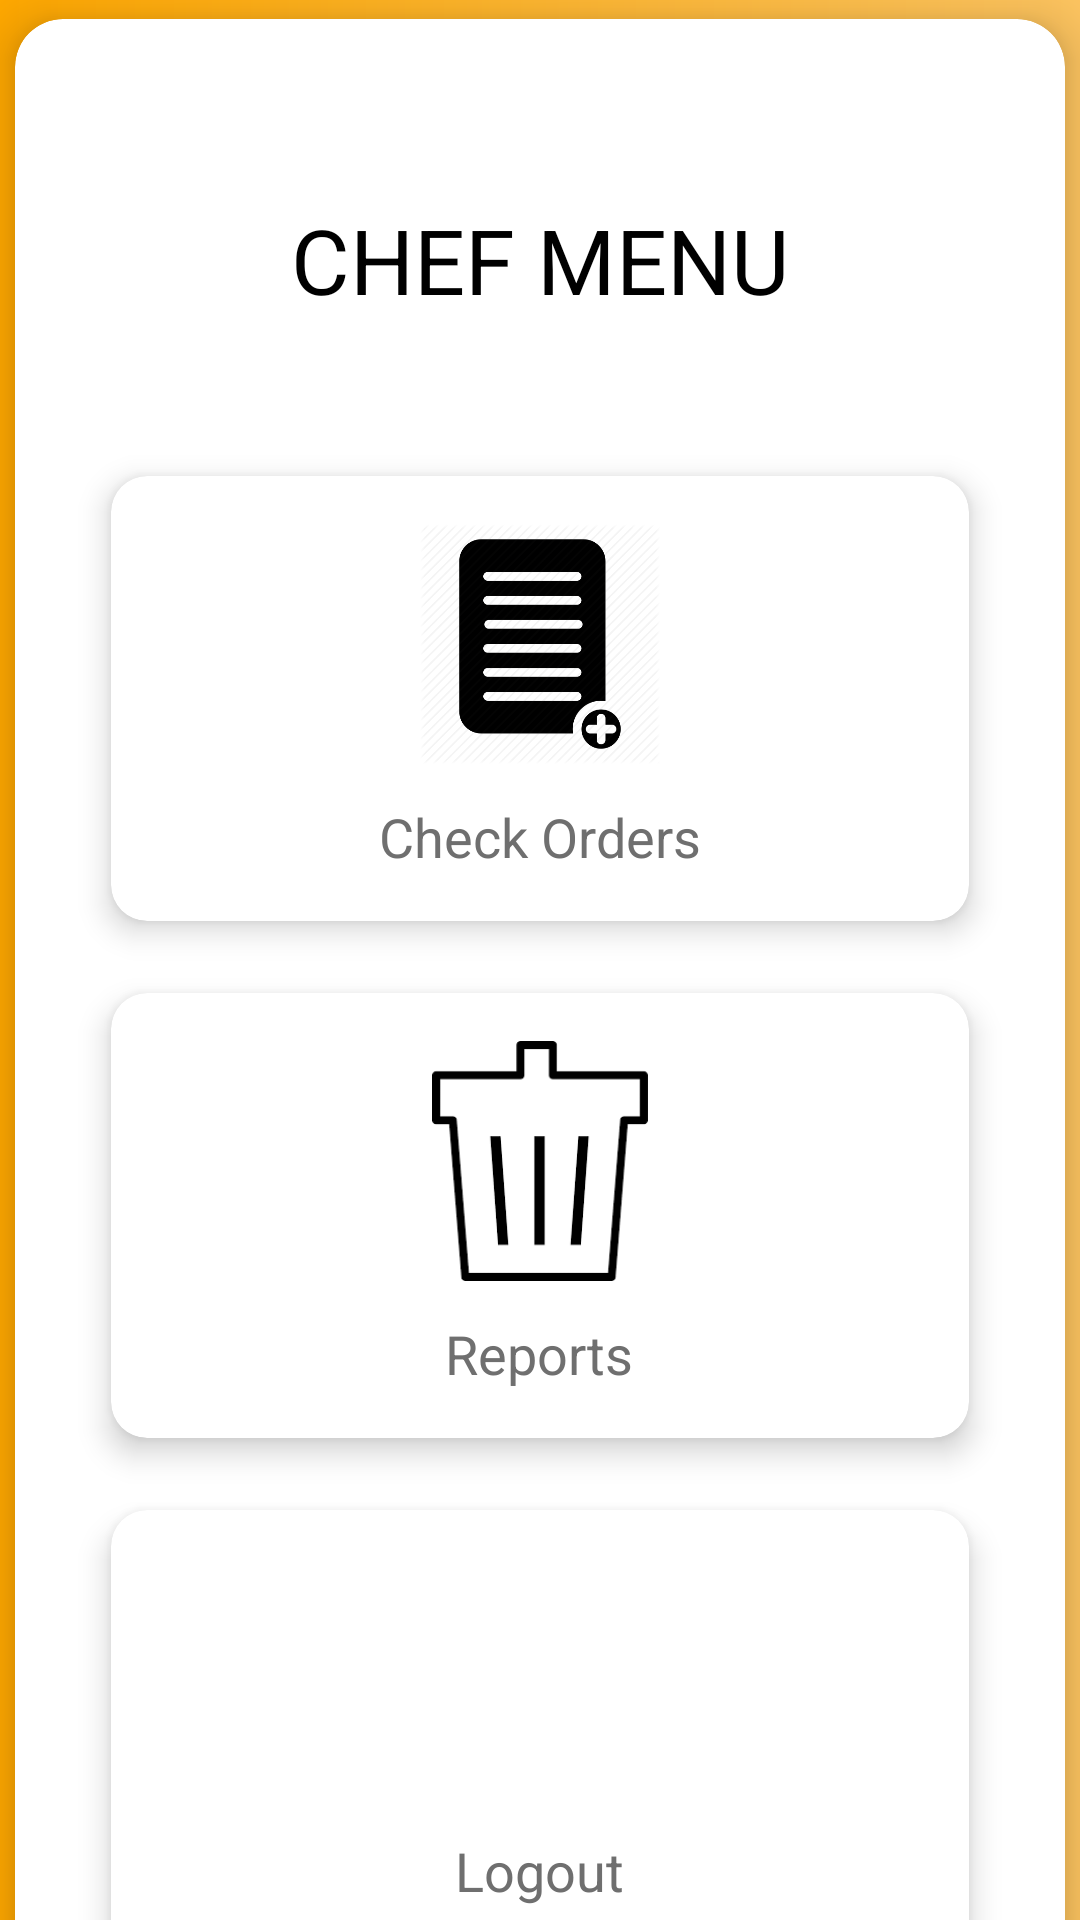

Icons on this 1080px x 1920px Android screen, each with the point to tap as (x,y):
add details: (540,644)
delete details: (540,1161)
